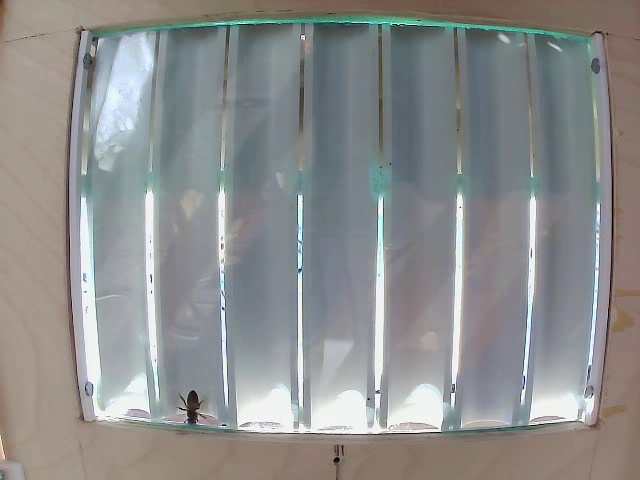bee: (181, 391, 209, 422)
